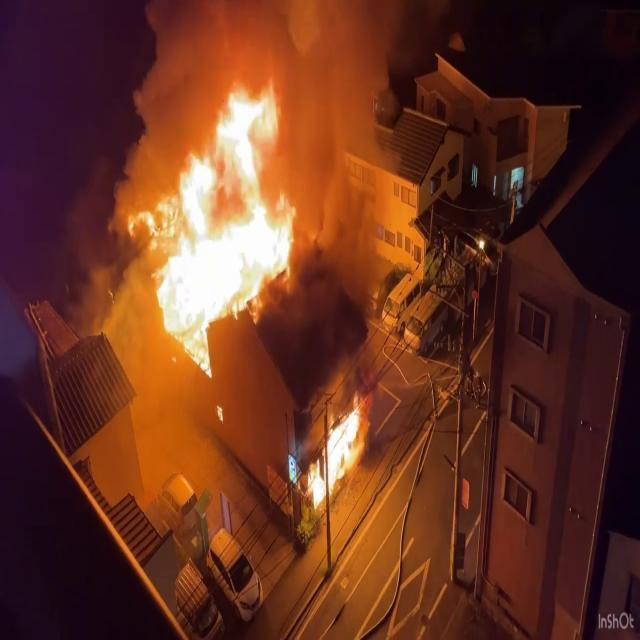Fire: (126, 75, 306, 363), (306, 388, 368, 516)
